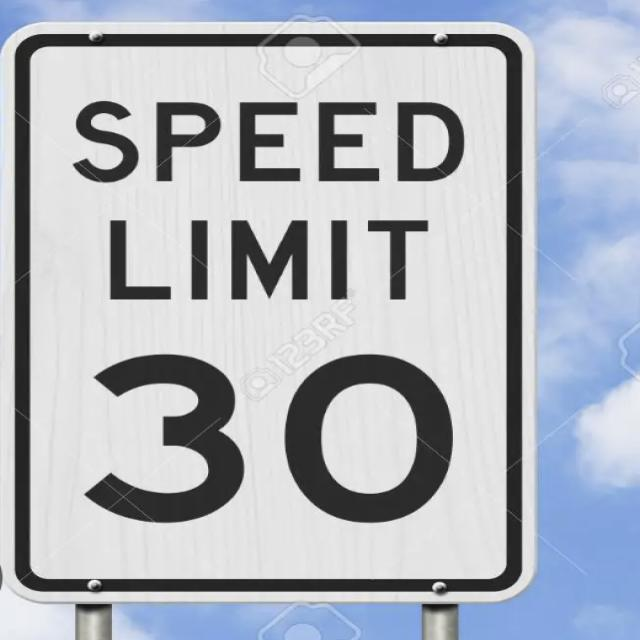speedLimit30: (22, 43, 509, 582)
